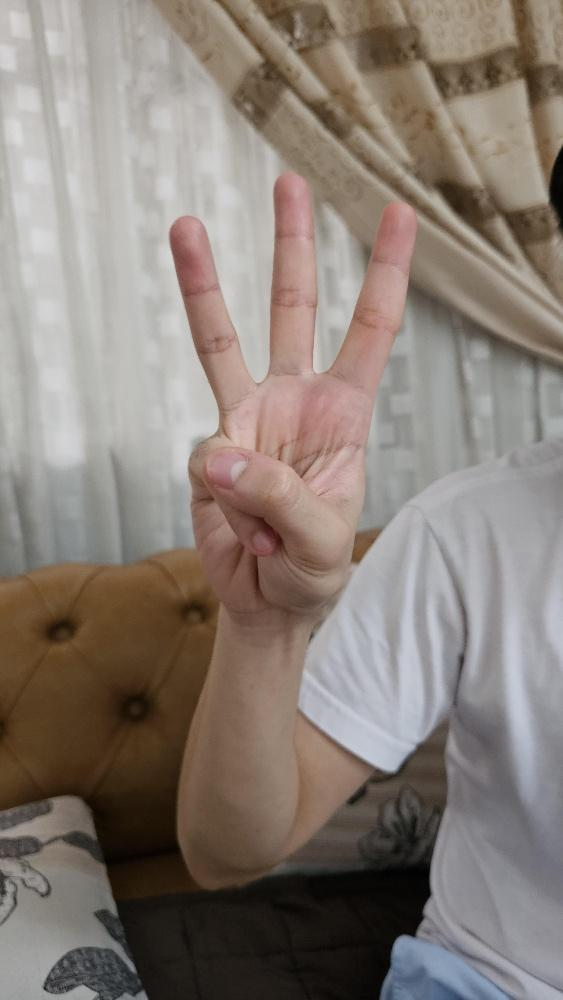w: (163, 168, 420, 618)
